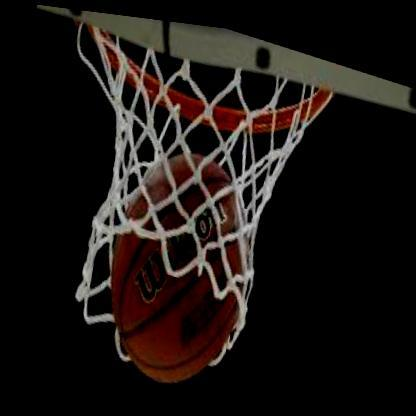basketball: (93, 127, 268, 402)
rim: (60, 6, 339, 161)
